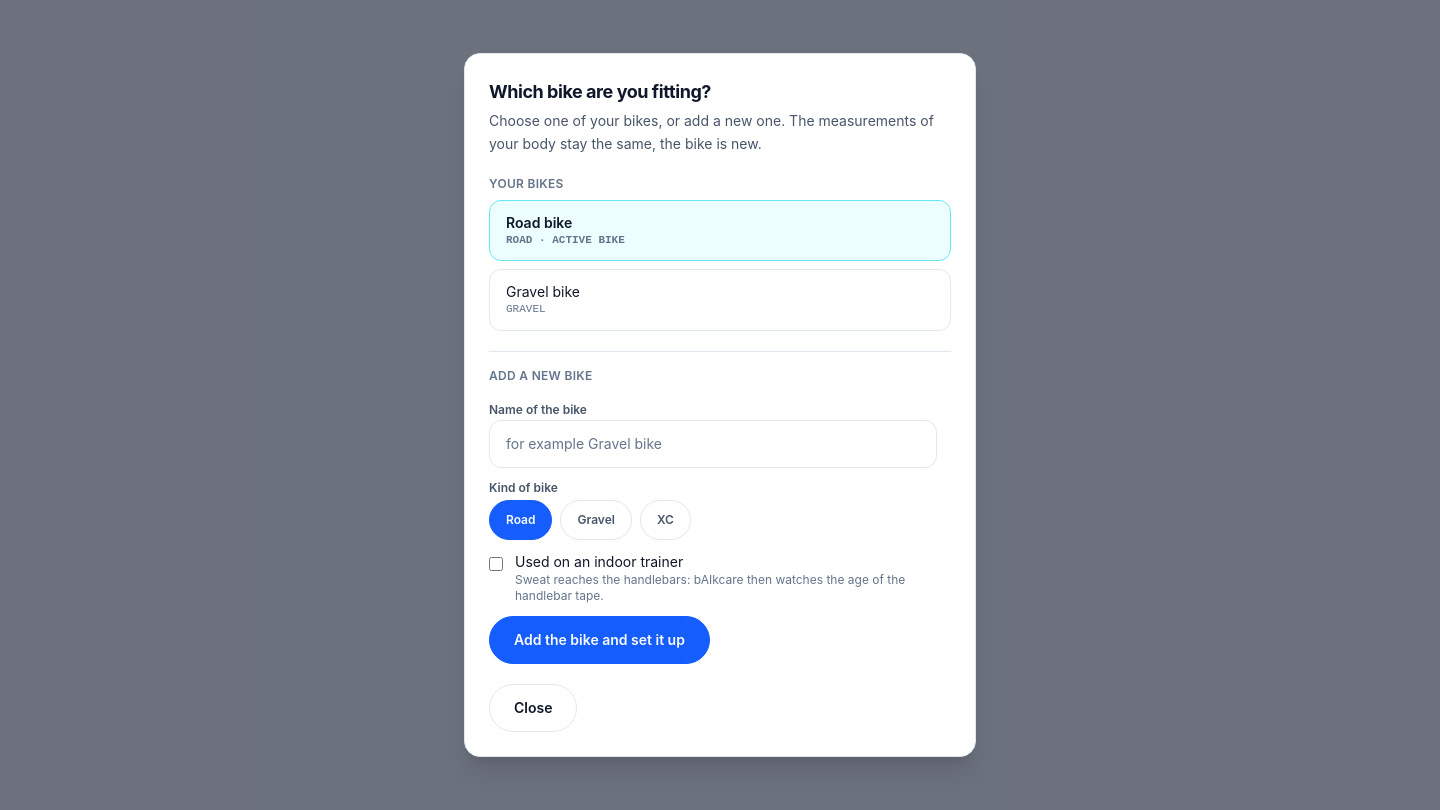
the which-bike dialog (en) › the dialog › should say when the bike could not be added and stay open
The image size is (1440, 810).
In the field labelled "Name of the bike": (713, 444) [489, 420, 937, 468], type "Trail bike"
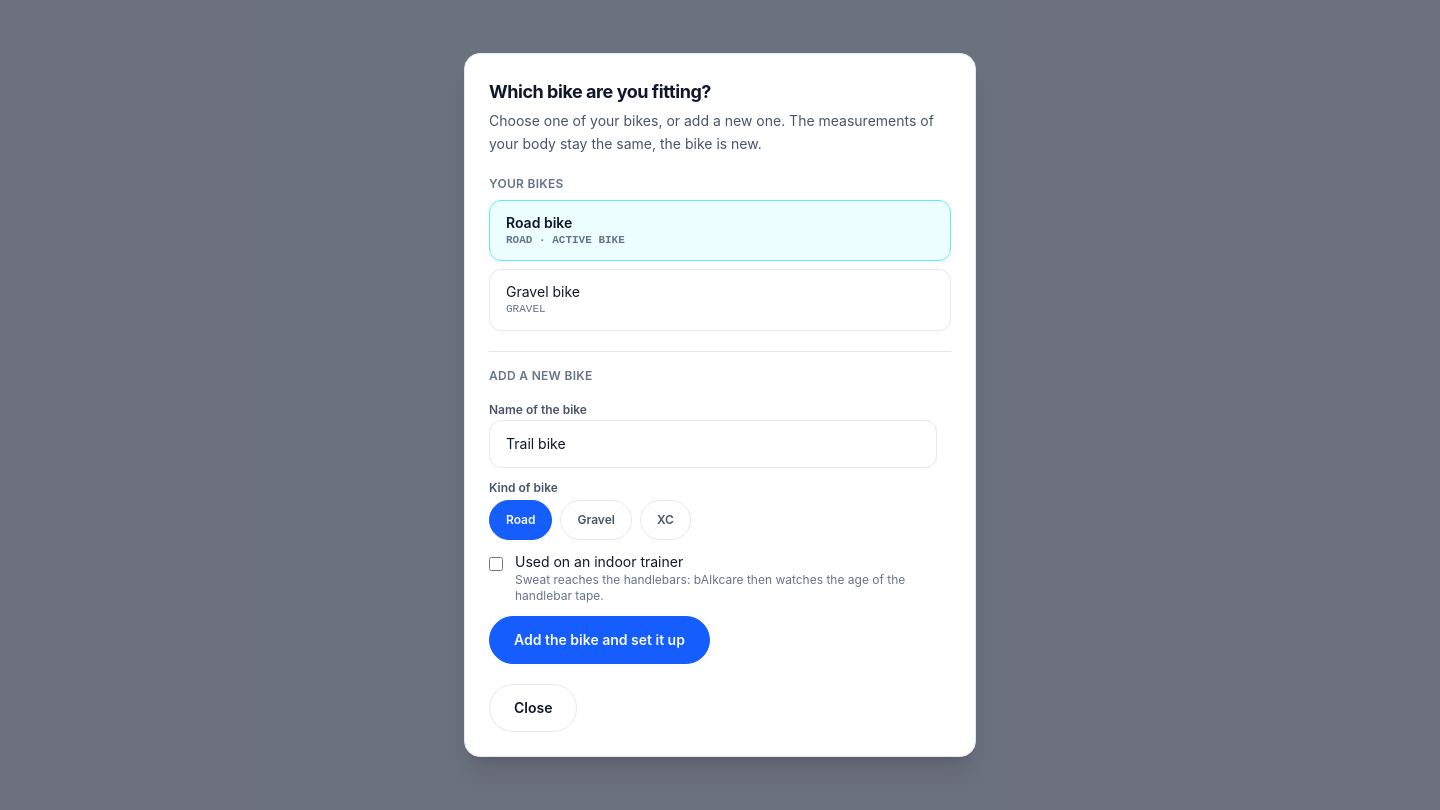
Click the button "Add the bike and set it up": (599, 640) [489, 616, 710, 664]
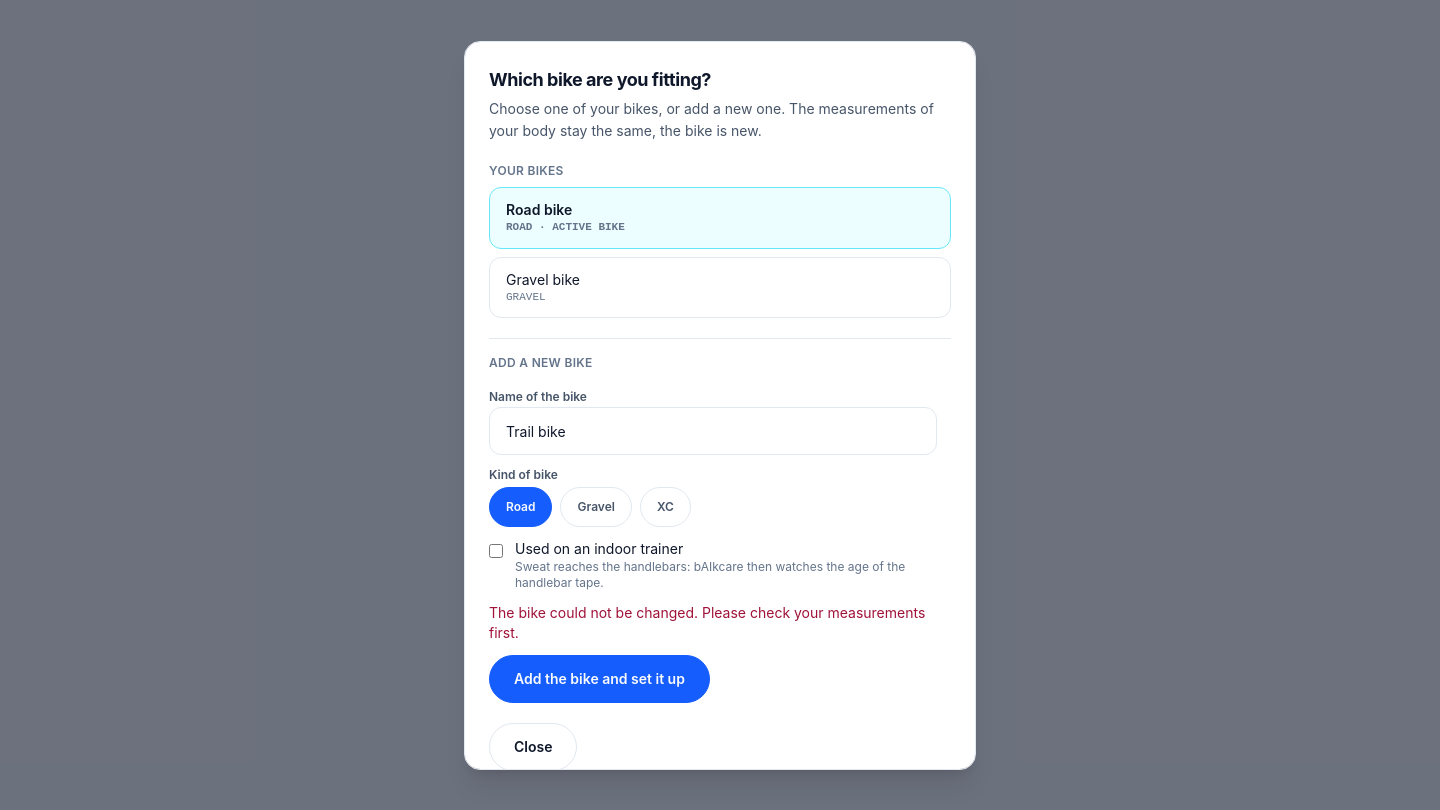
Result: the message reads "The bike could not be changed. Please check your measurements first." at [489, 604, 925, 641]
